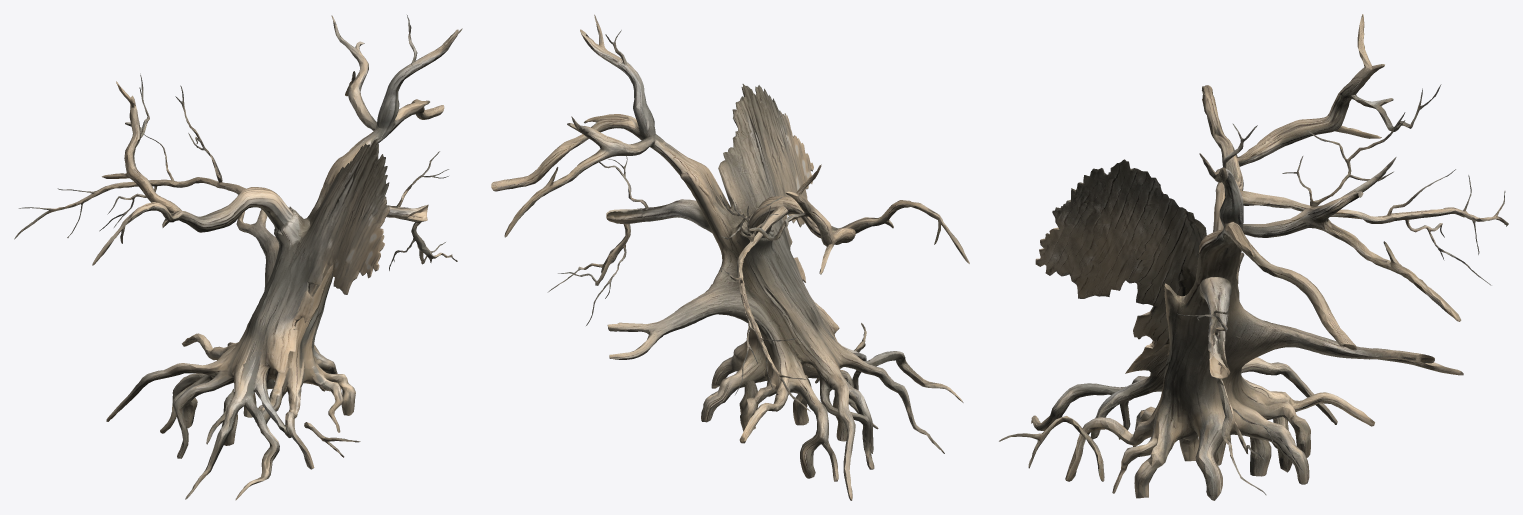
The model's file is deadtree.glb.
The picture shows the model from 3 angles, left to right: view 1: azimuth 30°, elevation 25°; view 2: azimuth 150°, elevation 25°; view 3: azimuth 270°, elevation 25°; orthographic projection. The views are drawn at different scales.
Visible parts, largest first — view 1: mesh_node; view 2: mesh_node; view 3: mesh_node.
Boxes of the visible parts, x1,y1,x2,y2 form: mesh_node: [14, 15, 462, 500]; mesh_node: [491, 14, 969, 500]; mesh_node: [999, 14, 1508, 500].
Bounding box in the file's own units: 1.9 × 1.69 × 1.61.
1 material, 1 textured.
